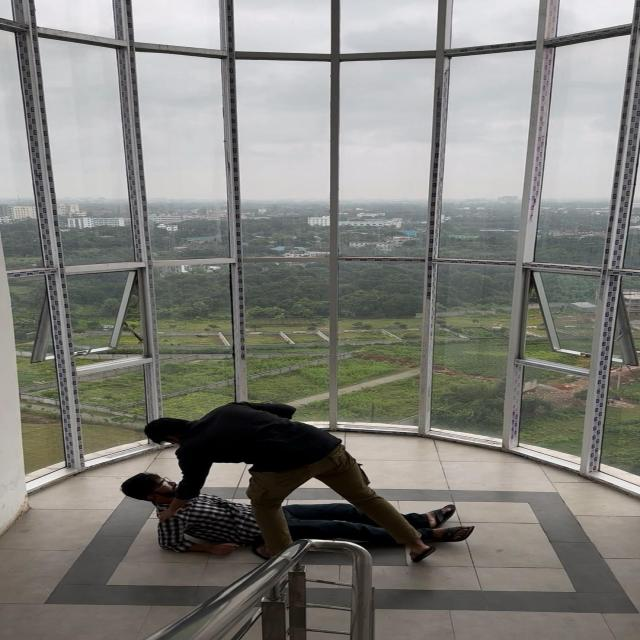fight: (101, 381, 498, 582)
